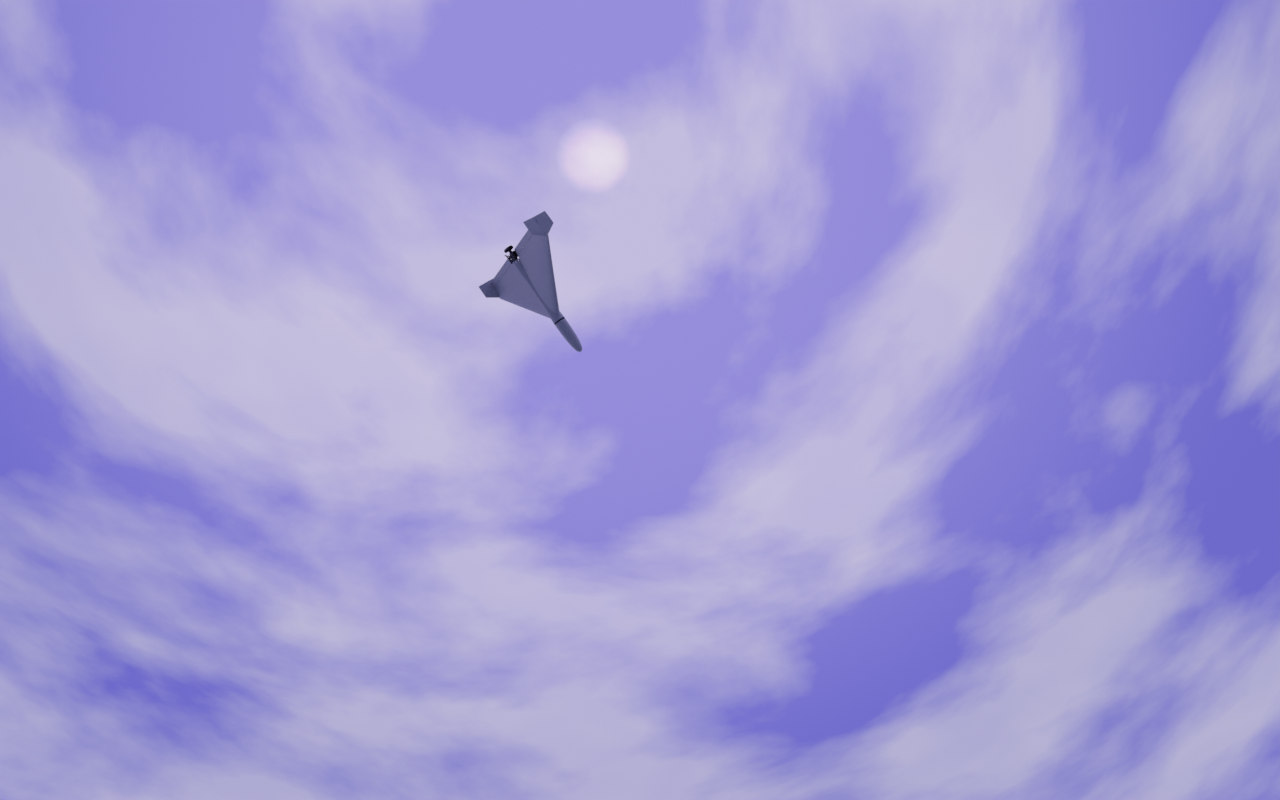shahed: (479, 211, 584, 354)
